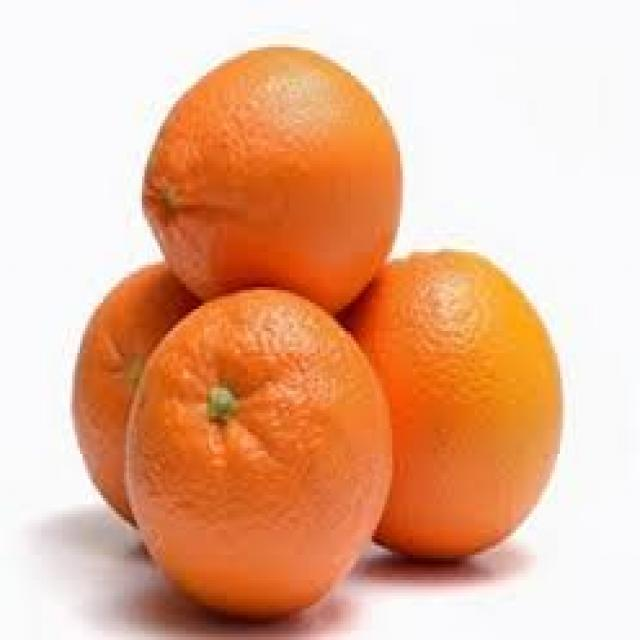organic waste: (124, 284, 387, 621), (134, 44, 400, 319), (336, 252, 562, 571), (70, 262, 276, 532)
